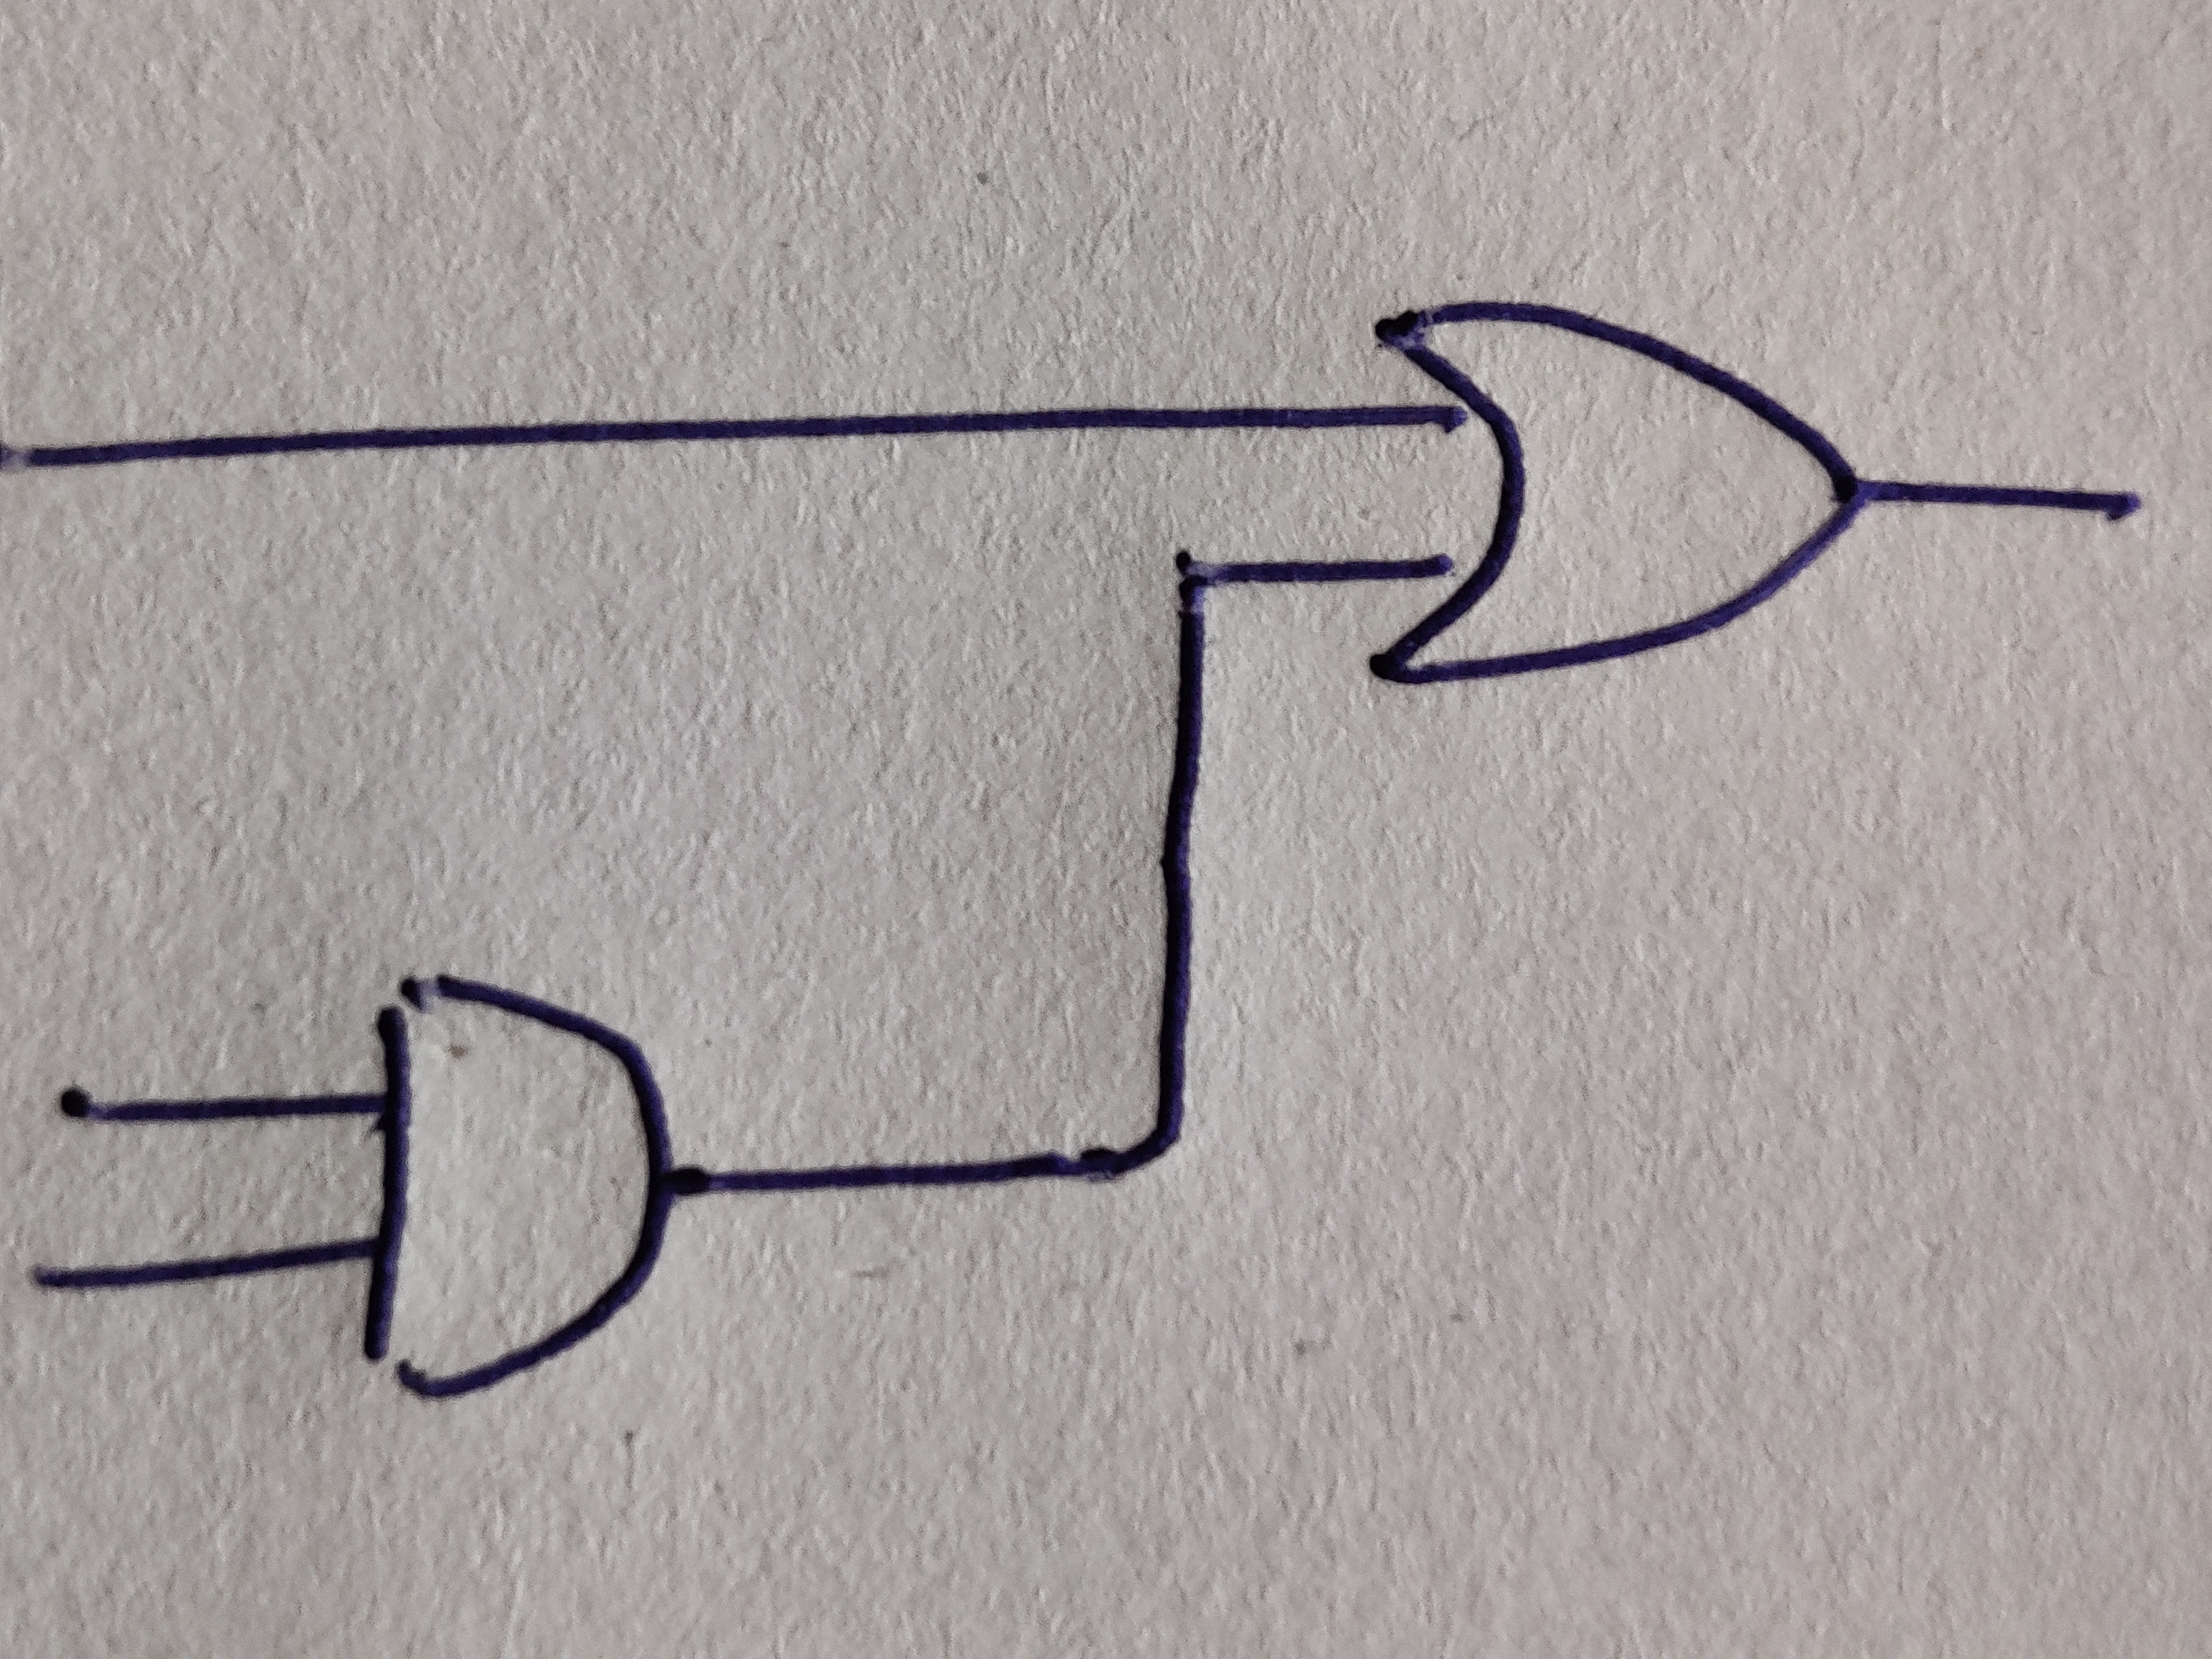and: (361, 976, 672, 1396)
or: (1369, 303, 1862, 685)
